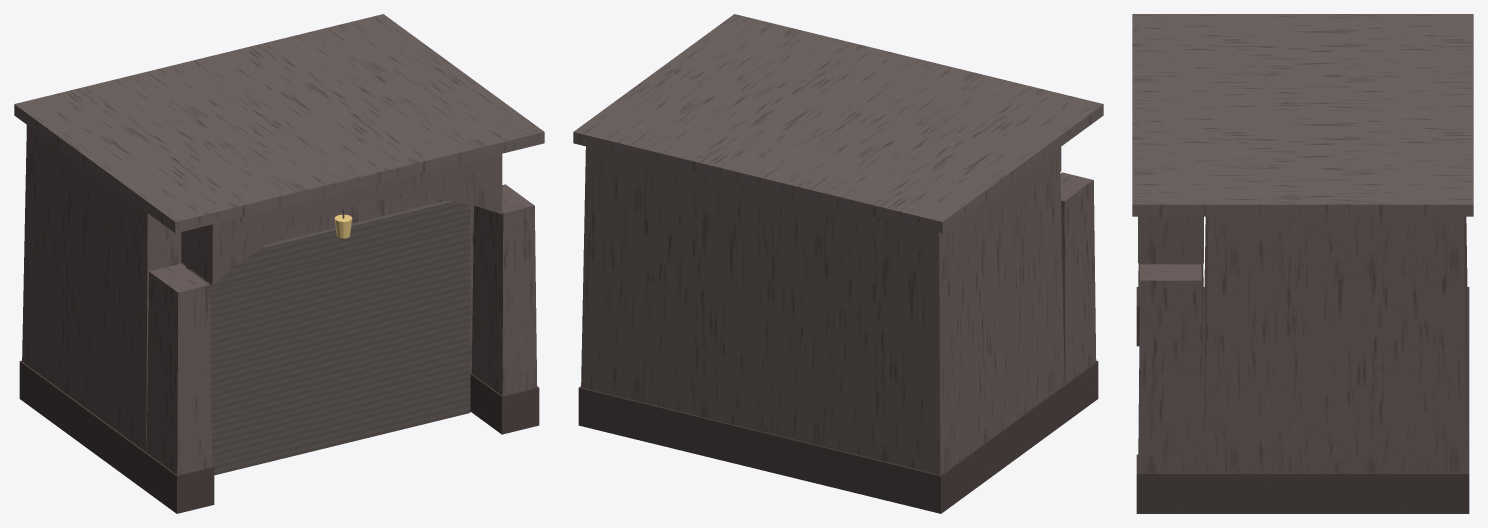
The model's file is SM_Souq_Stall_W4D30H30.fbx.
3 renders of one model, left to right at view 1: azimuth 30°, elevation 25°; view 2: azimuth 150°, elevation 25°; view 3: azimuth 270°, elevation 25°, orthographic. The views are drawn at different scales.
Visible parts, largest first — view 1: SM_Souq_Stall_W4D30H30; view 2: SM_Souq_Stall_W4D30H30; view 3: SM_Souq_Stall_W4D30H30.
Boxes of the visible parts, x1=… form: SM_Souq_Stall_W4D30H30: x1=14, y1=14, x2=544, y2=513; SM_Souq_Stall_W4D30H30: x1=573, y1=14, x2=1103, y2=513; SM_Souq_Stall_W4D30H30: x1=1132, y1=14, x2=1473, y2=513.
Bounding box in the file's own units: 410 × 312 × 310.
Materials: 6 (6 with a texture image).
